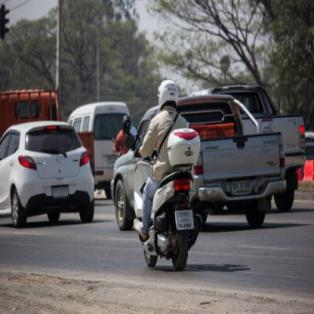Motocicleta: (132, 151, 208, 267)
